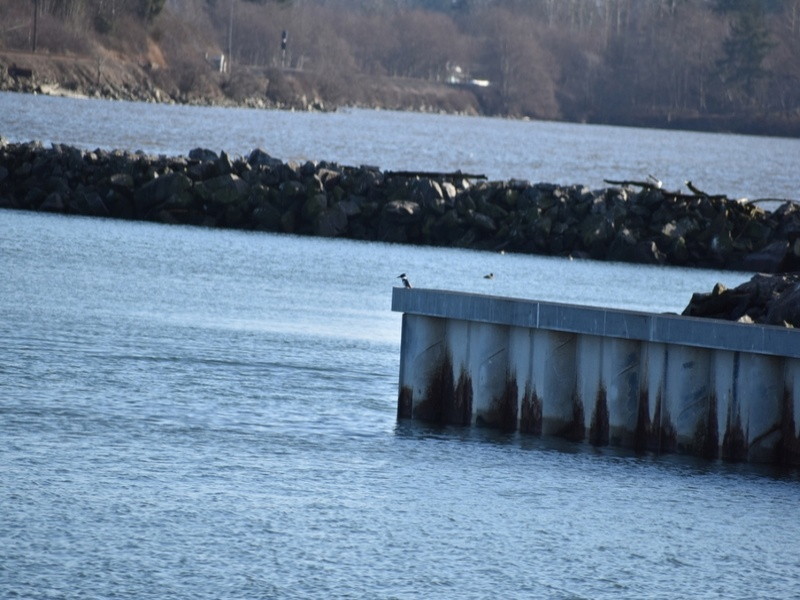kingfisher: (398, 272, 410, 288)
